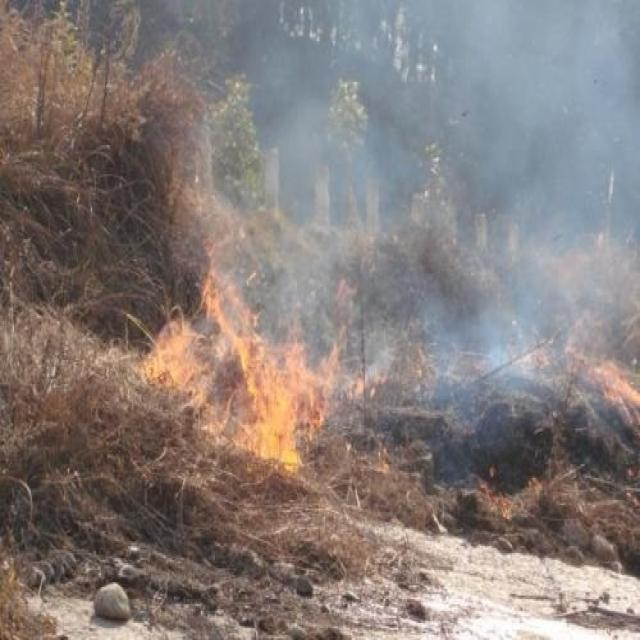Fire: (136, 256, 372, 470), (586, 352, 640, 414)
Smoke: (179, 1, 640, 424)
